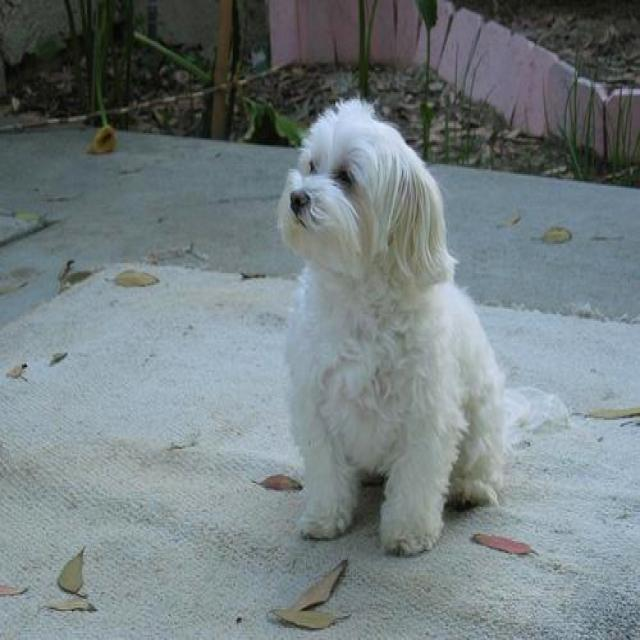maltese_dog: (271, 90, 571, 554)
